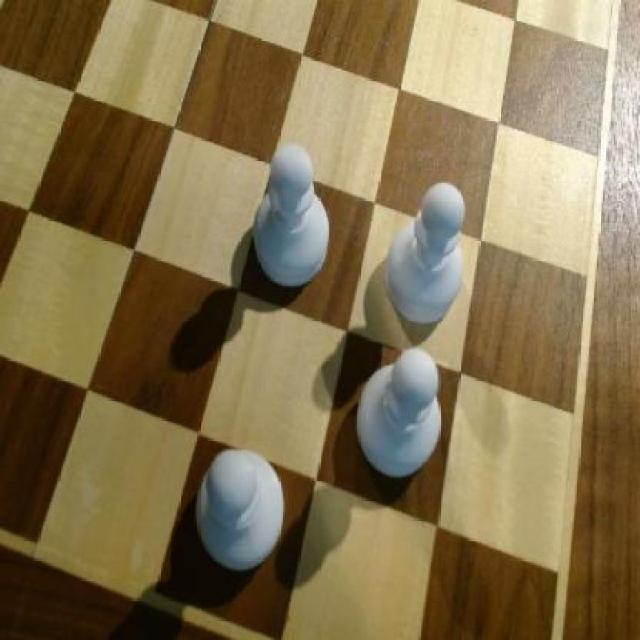white-knight: (249, 137, 348, 302), (384, 181, 478, 337), (355, 352, 450, 502), (196, 440, 294, 583)
